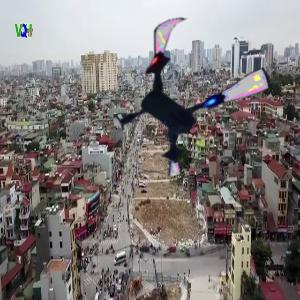drone: (103, 10, 270, 177)
